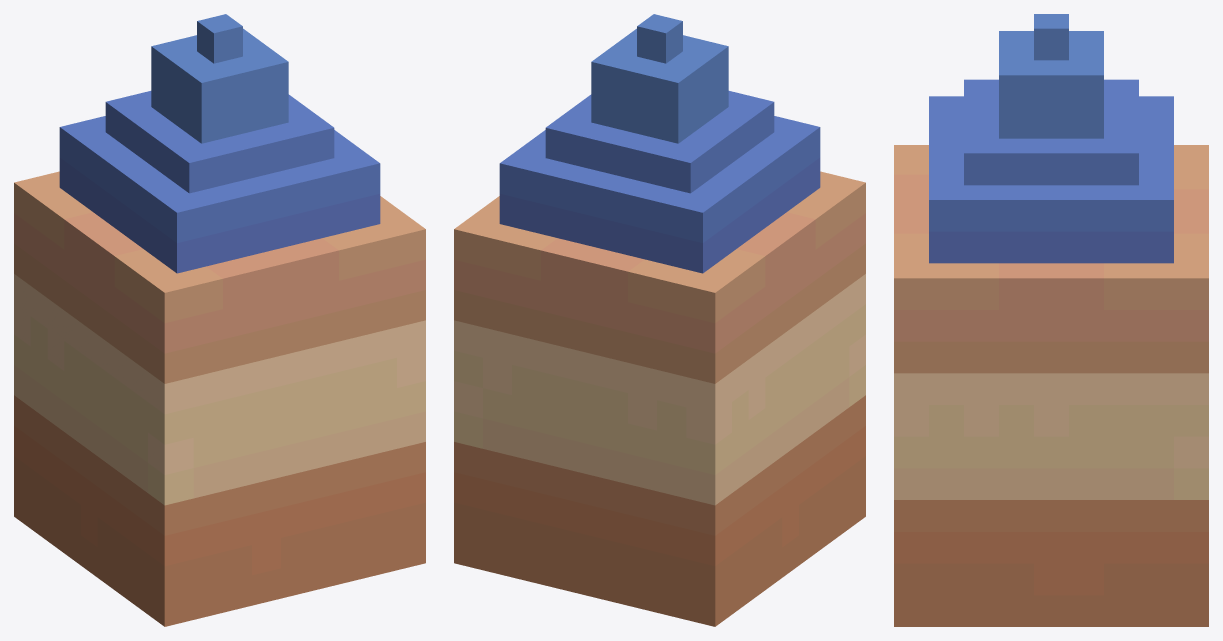
The model's file is tower-square-roof.glb.
The picture shows the model from 3 angles, left to right: view 1: azimuth 30°, elevation 25°; view 2: azimuth 150°, elevation 25°; view 3: azimuth 270°, elevation 25°; orthographic projection. The views are drawn at different scales.
Parts seen in each view (by area): view 1: tower-square-roof; view 2: tower-square-roof; view 3: tower-square-roof.
Boxes of the visible parts, x1,y1,x2,y2 form: tower-square-roof: (14,14,425,626); tower-square-roof: (454,14,865,626); tower-square-roof: (894,14,1208,626).
Size of the model in its own units: 1.12 by 2.12 by 1.12.
1 material, 1 textured.
